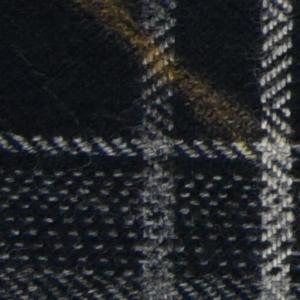Oil Stain: (62, 1, 295, 166)
